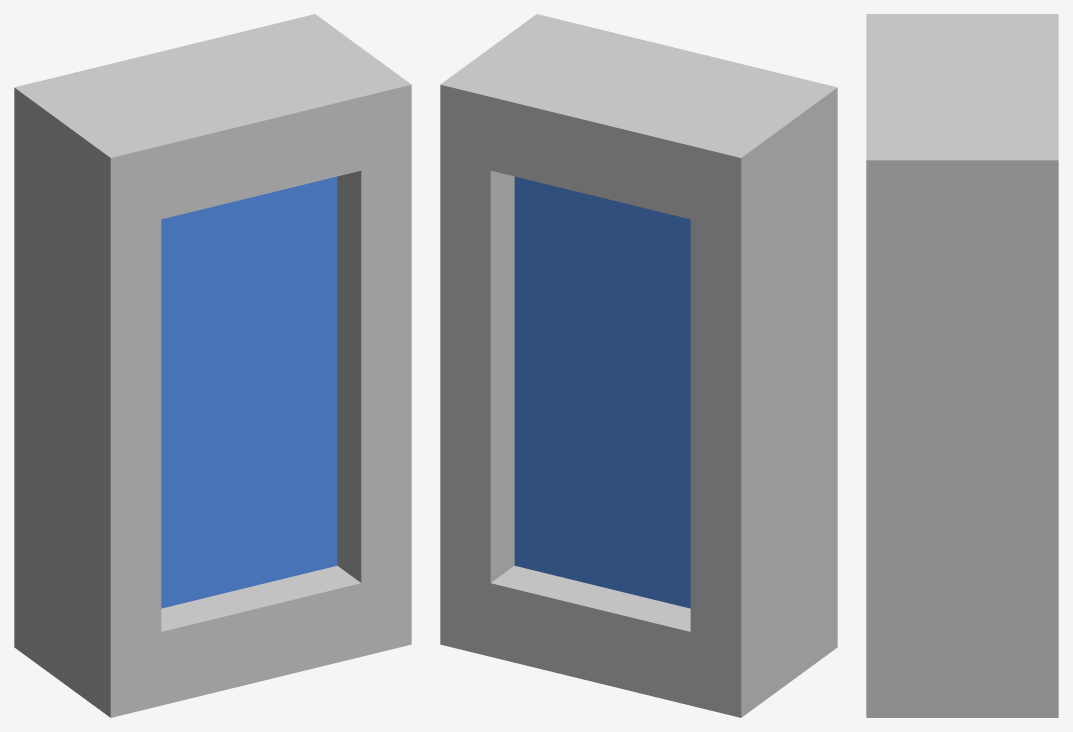
File: lightbox.glb
The picture shows the model from 3 angles, left to right: view 1: azimuth 30°, elevation 25°; view 2: azimuth 150°, elevation 25°; view 3: azimuth 270°, elevation 25°; orthographic projection.
Parts seen in each view (by area): view 1: Cube, Cube.001; view 2: Cube, Cube.001; view 3: Cube.
Boxes of the visible parts, left/top/right/bottom form: Cube: left=14, top=14, right=411, bottom=717; Cube.001: left=161, top=176, right=337, bottom=608; Cube: left=440, top=14, right=837, bottom=717; Cube.001: left=514, top=176, right=690, bottom=608; Cube: left=866, top=14, right=1058, bottom=717.
Size of the model in its own units: 1.8 by 3.2 by 1.
